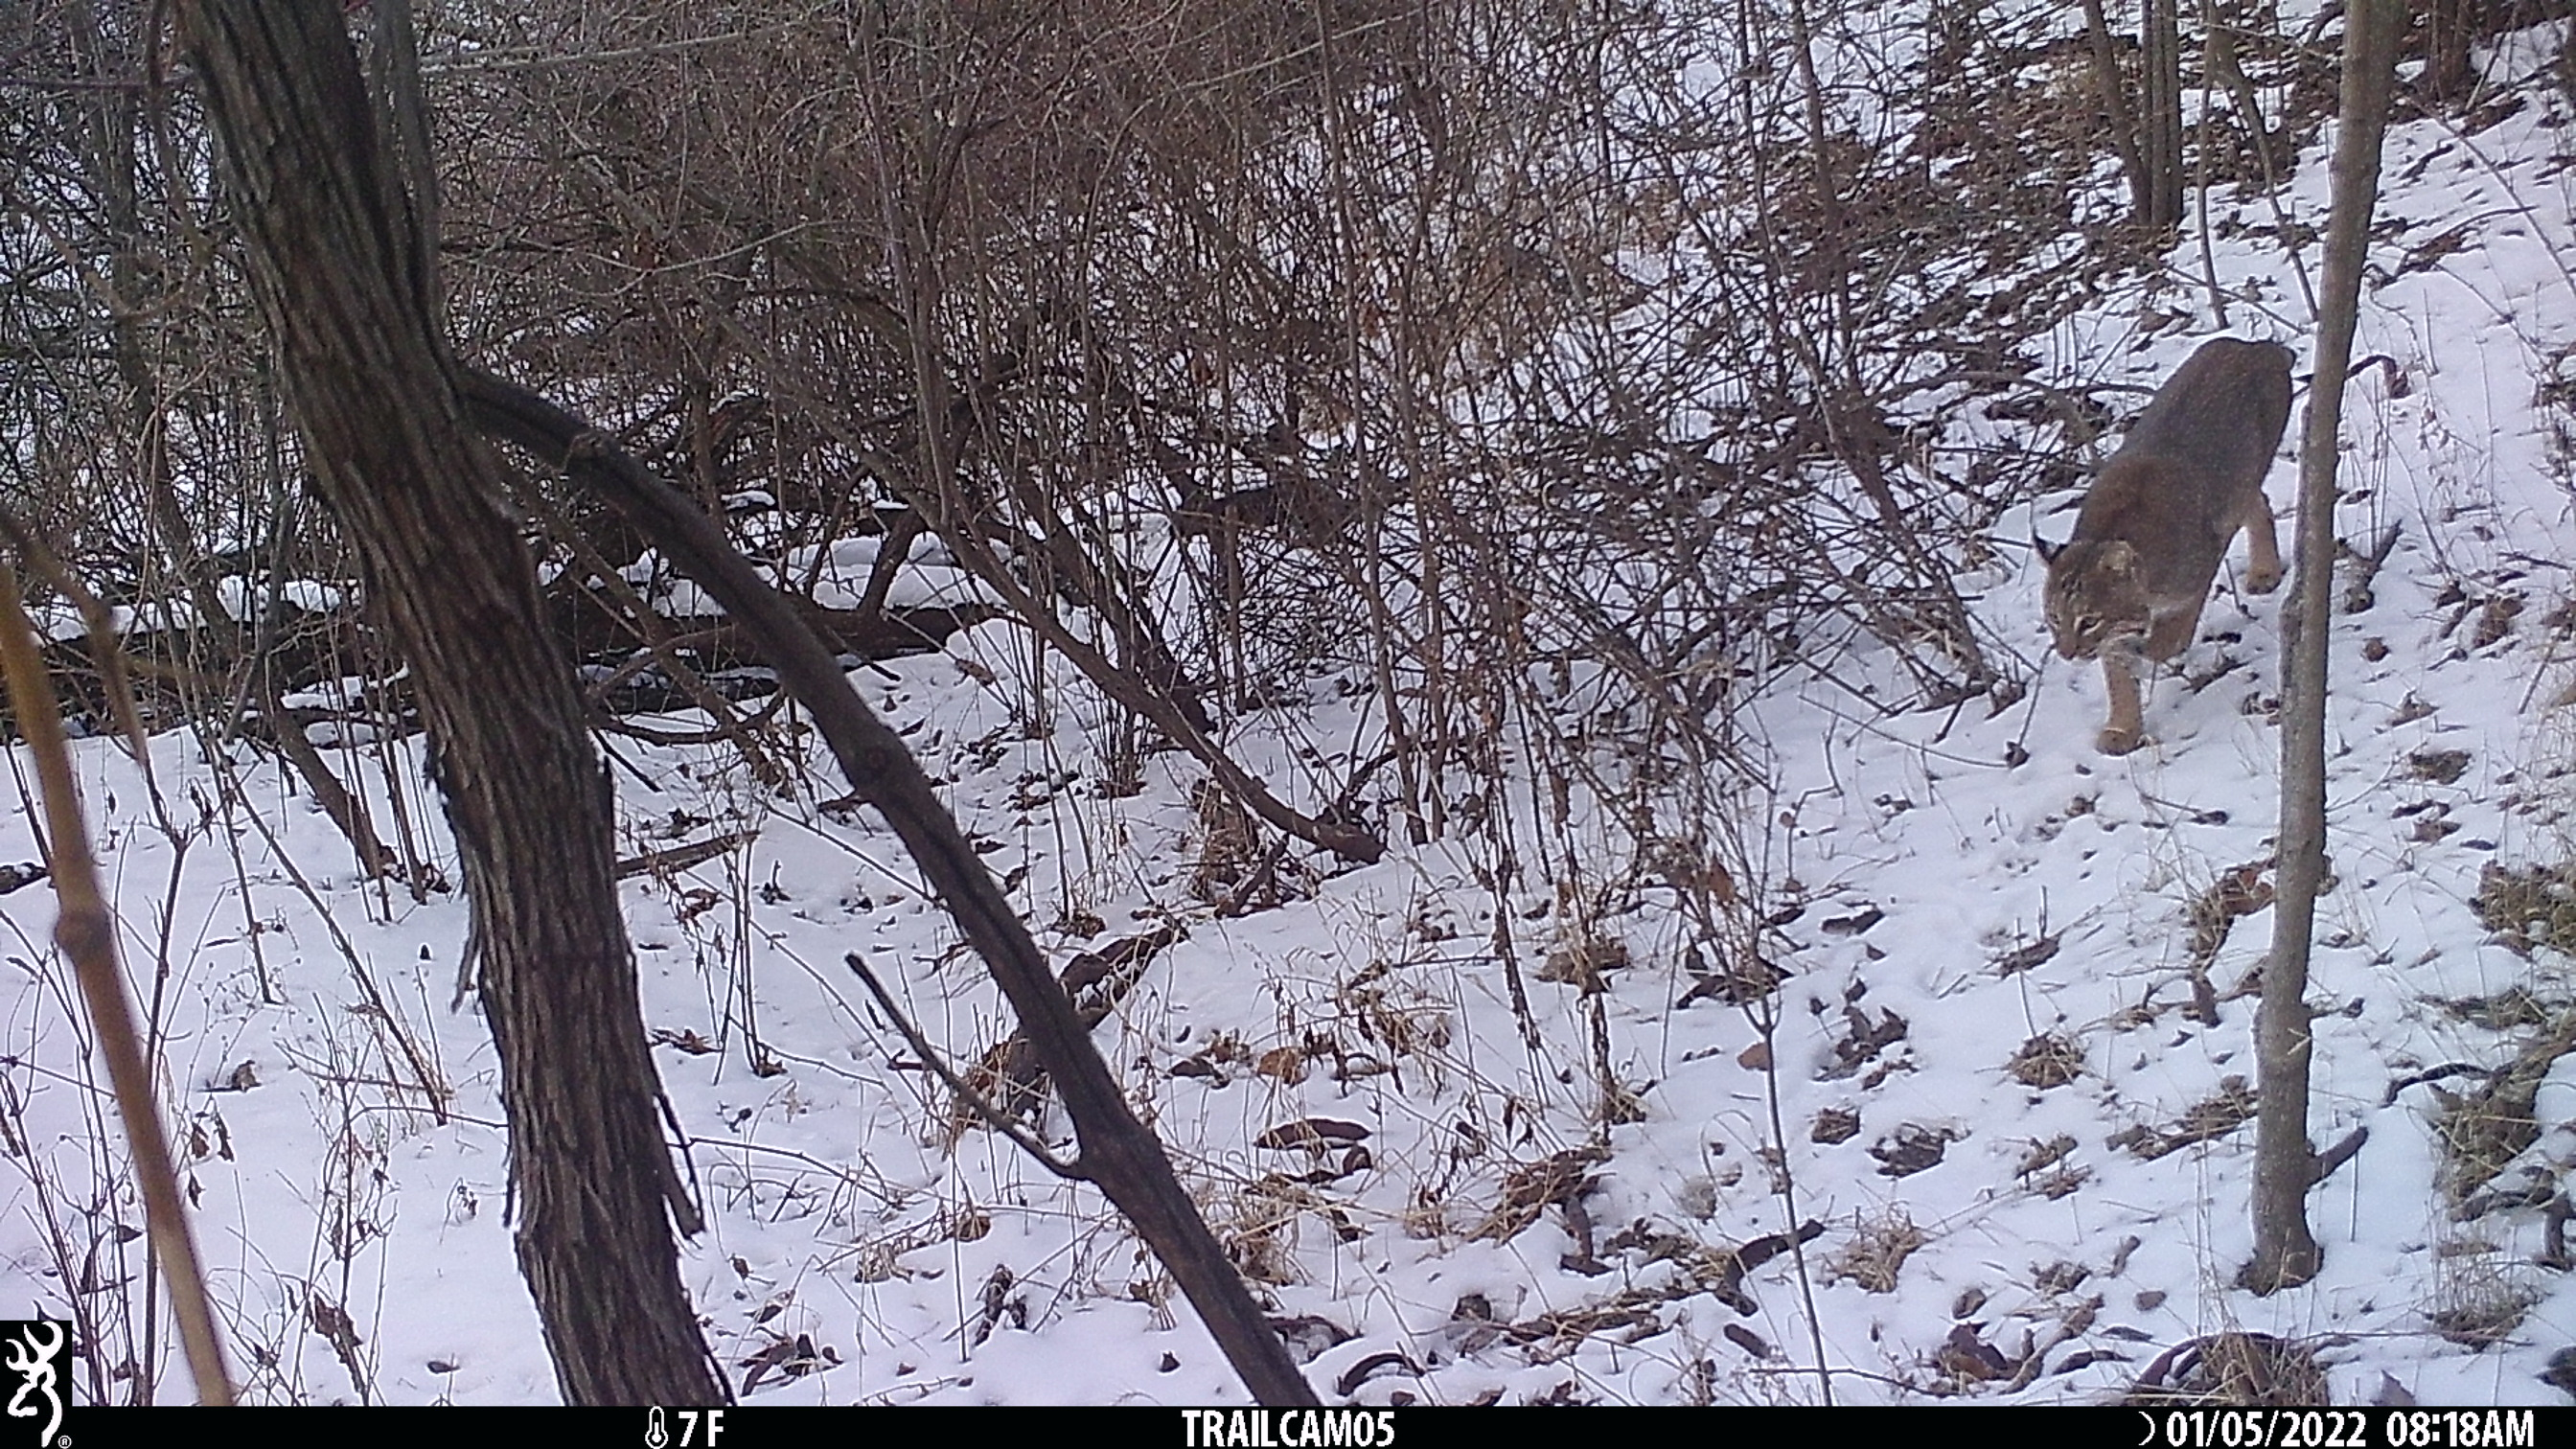Bobcat: (2031, 333, 2295, 752)
